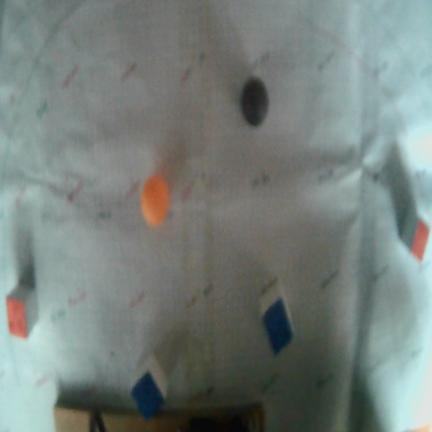circle_blue: (240, 77, 269, 127)
circle_orange: (141, 174, 169, 226)
rectangle_blue: (262, 297, 293, 357)
rectangle_orange: (411, 218, 431, 262)
square_blue: (131, 370, 164, 423)
square_orange: (6, 300, 26, 339)
